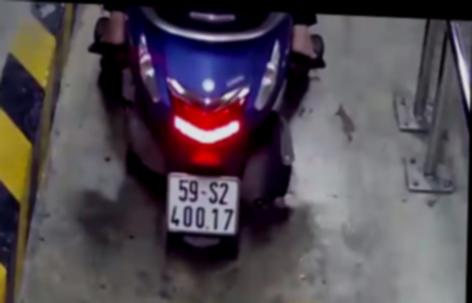License_Plate: (157, 165, 245, 241)
